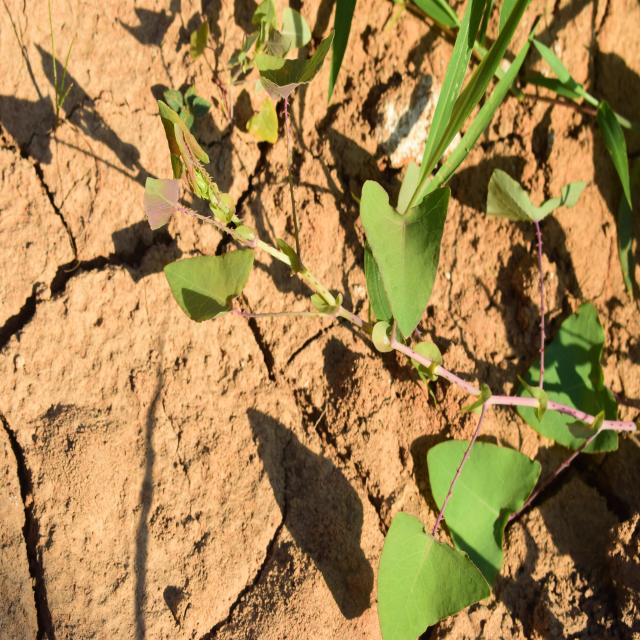Asiatic_Smartweed: (154, 41, 341, 361), (366, 418, 560, 624), (477, 134, 598, 387), (341, 177, 466, 375)
